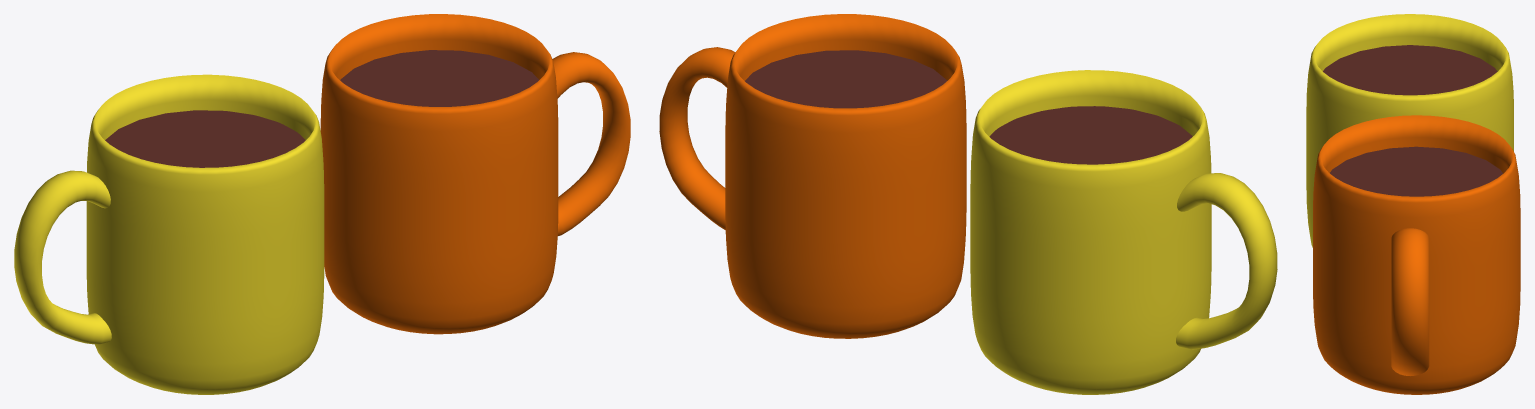
The model's file is mugs.glb.
3 renders of one model, left to right at view 1: azimuth 30°, elevation 25°; view 2: azimuth 150°, elevation 25°; view 3: azimuth 270°, elevation 25°, orthographic. The views are drawn at different scales.
Visible parts, largest first — view 1: Mugs; view 2: Mugs; view 3: Mugs.
Boxes of the visible parts, x1,y1,x2,y2 form: Mugs: (14, 14, 630, 394); Mugs: (659, 14, 1277, 394); Mugs: (1306, 14, 1520, 394).
Bounding box in the file's own units: 25.33 × 9.64 × 8.94.
1 material, 1 textured.
